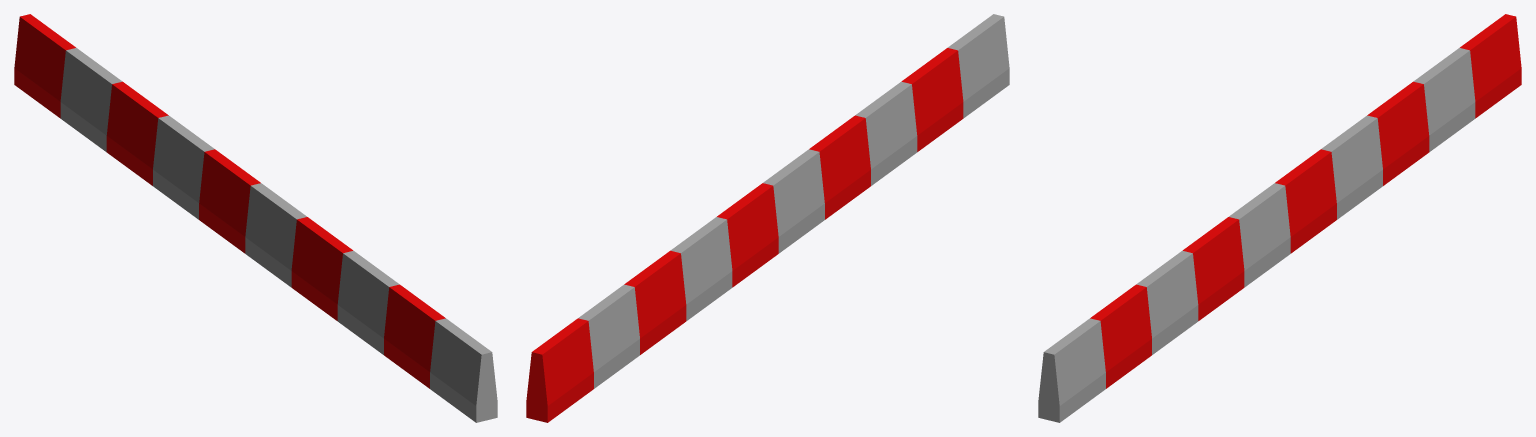
File: ETC0510009.fbx
3 renders of one model, left to right at view 1: azimuth 30°, elevation 25°; view 2: azimuth 150°, elevation 25°; view 3: azimuth 330°, elevation 25°, orthographic.
Parts seen in each view (by area): view 1: smETC0510009; view 2: smETC0510009; view 3: smETC0510009.
Boxes of the visible parts, <box> form: smETC0510009: <box>14,14,497,422</box>; smETC0510009: <box>526,14,1009,422</box>; smETC0510009: <box>1038,14,1521,422</box>.
Bounding box in the file's own units: 48 × 144 × 1800.
Materials: 1 (1 with a texture image).
